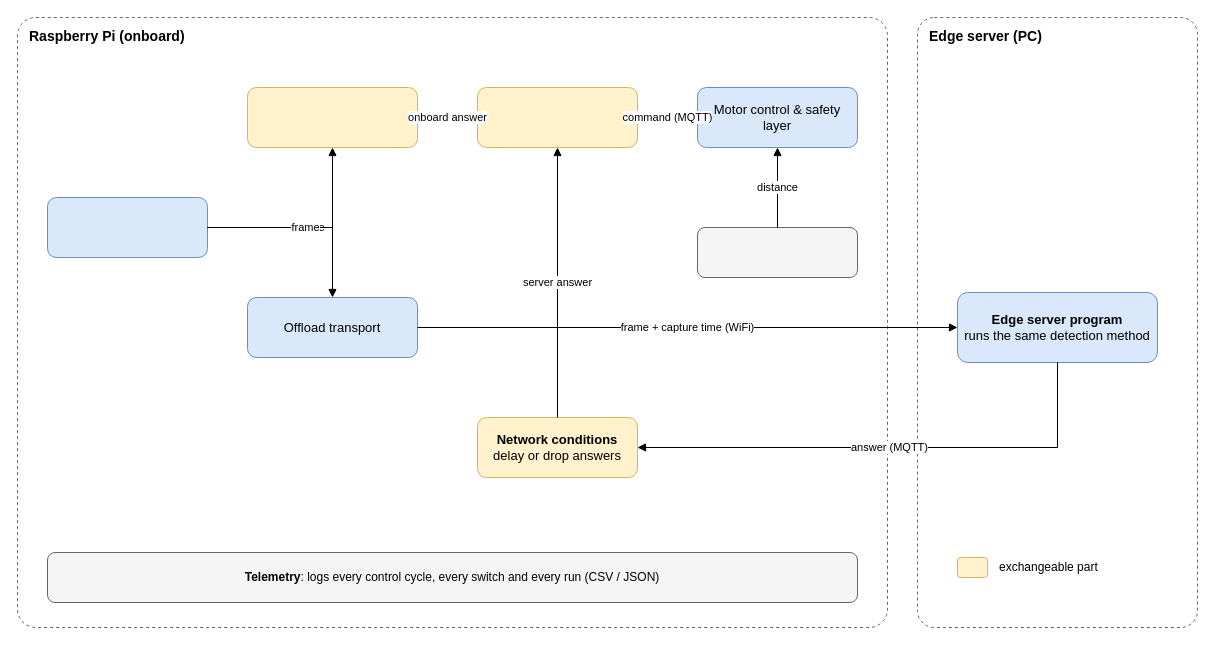
The diagram is 1215 pixels wide and 645 high, and some of its shapes have lost their labels. Here are the shapes that lost their labels. From the top down, the centre of each, then its label:
At pixel 332 117: "Detection method onboard (ArUco or YOLO)".
At pixel 557 117: "Switching policy Pi or server?".
At pixel 127 227: "Camera input".
At pixel 777 252: "Ultrasonic sensor".
